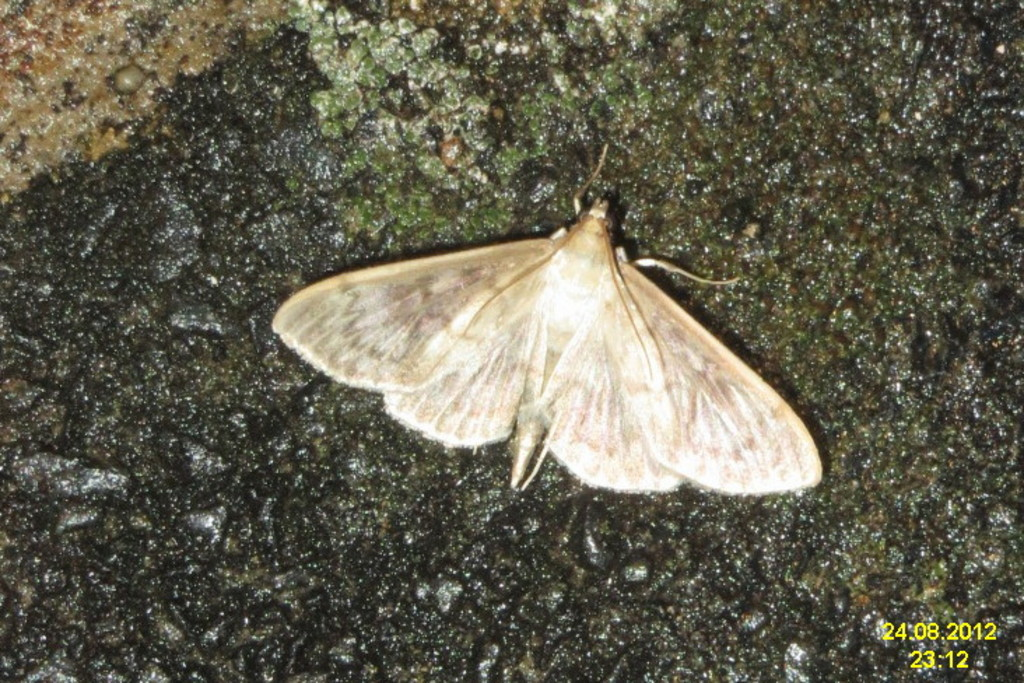Butterfly: (263, 193, 876, 518)
